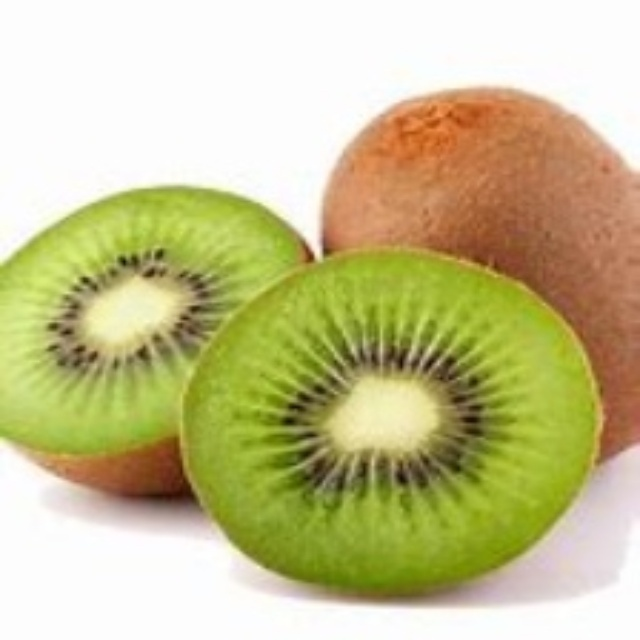kiwi: (181, 250, 612, 596), (328, 88, 639, 461), (4, 190, 310, 499)
